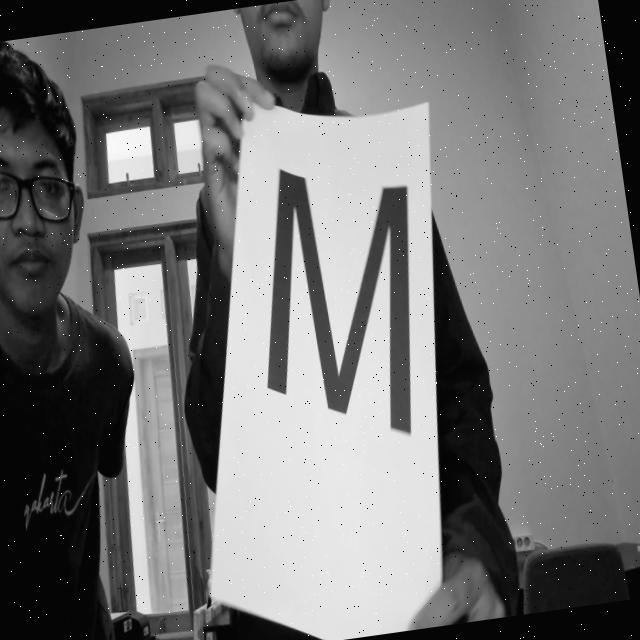m: (233, 145, 449, 468)
